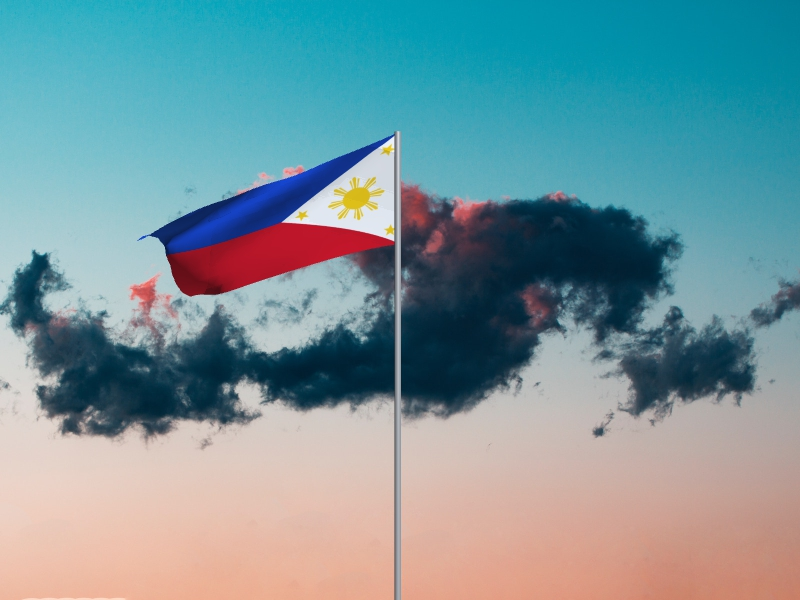ph: (138, 134, 396, 298)
